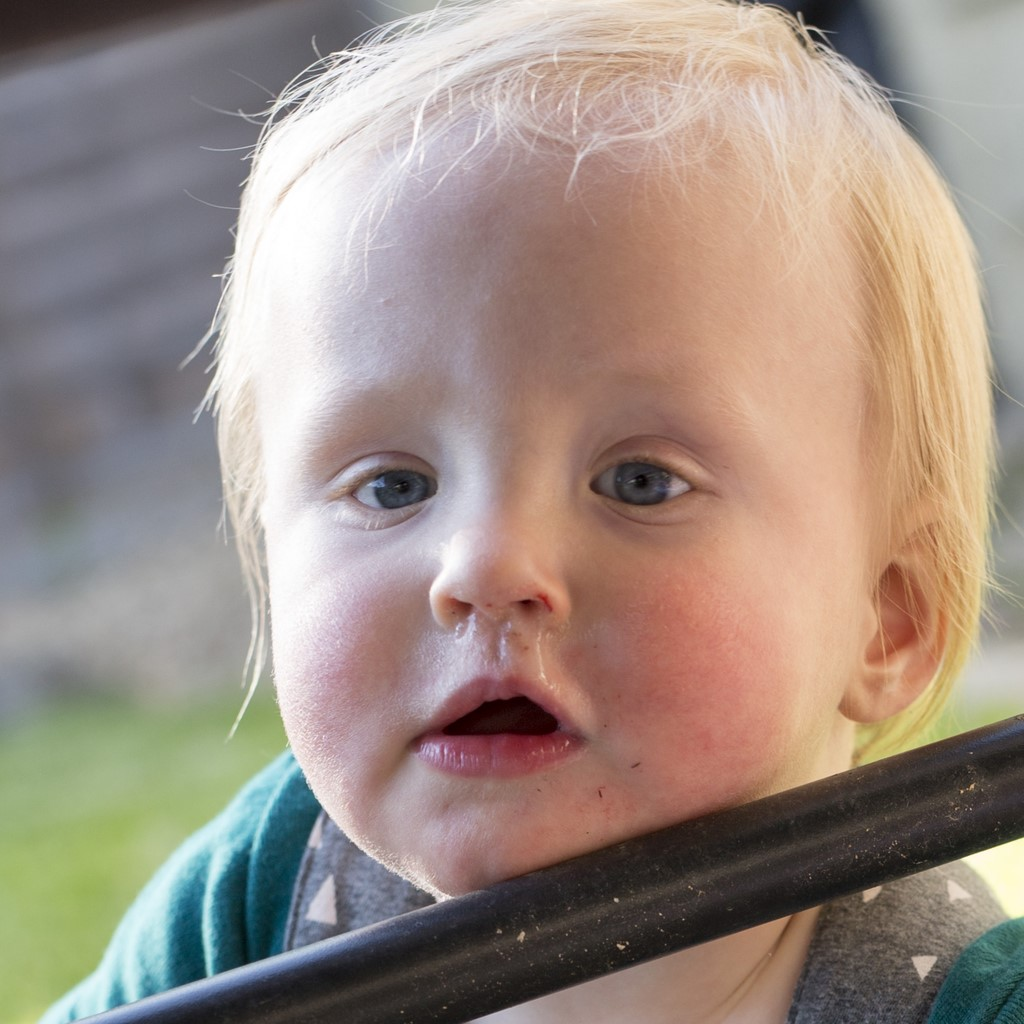sin_mascara: (222, 114, 885, 906)
